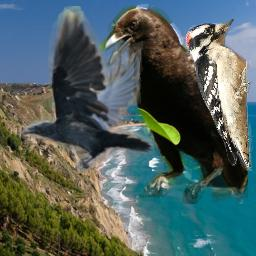Crow: (100, 4, 248, 204), (19, 6, 154, 172)
Woodpecker: (185, 19, 253, 171)
